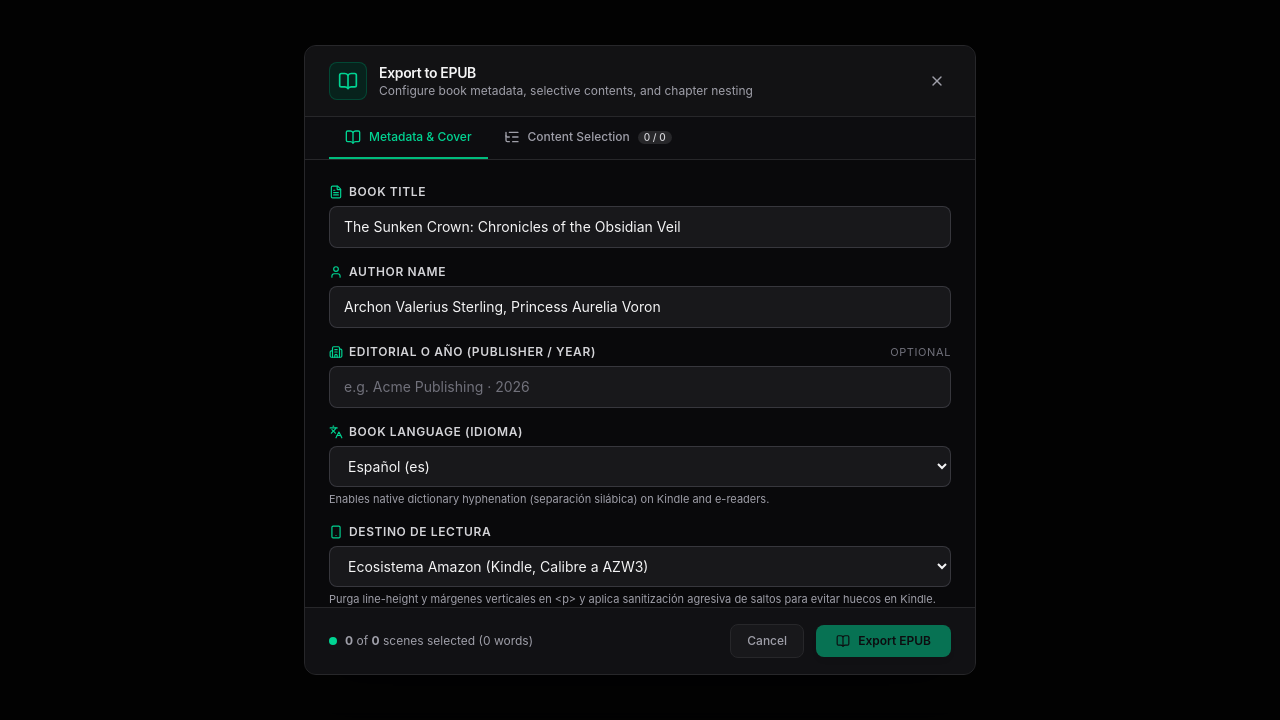
Test case: ExportSettingsModal Component › renders gracefully when project has no chapters
This screenshot has width=1280, height=720.
Click the text "Content Selection" at (579, 137), box [528,129,630,145]
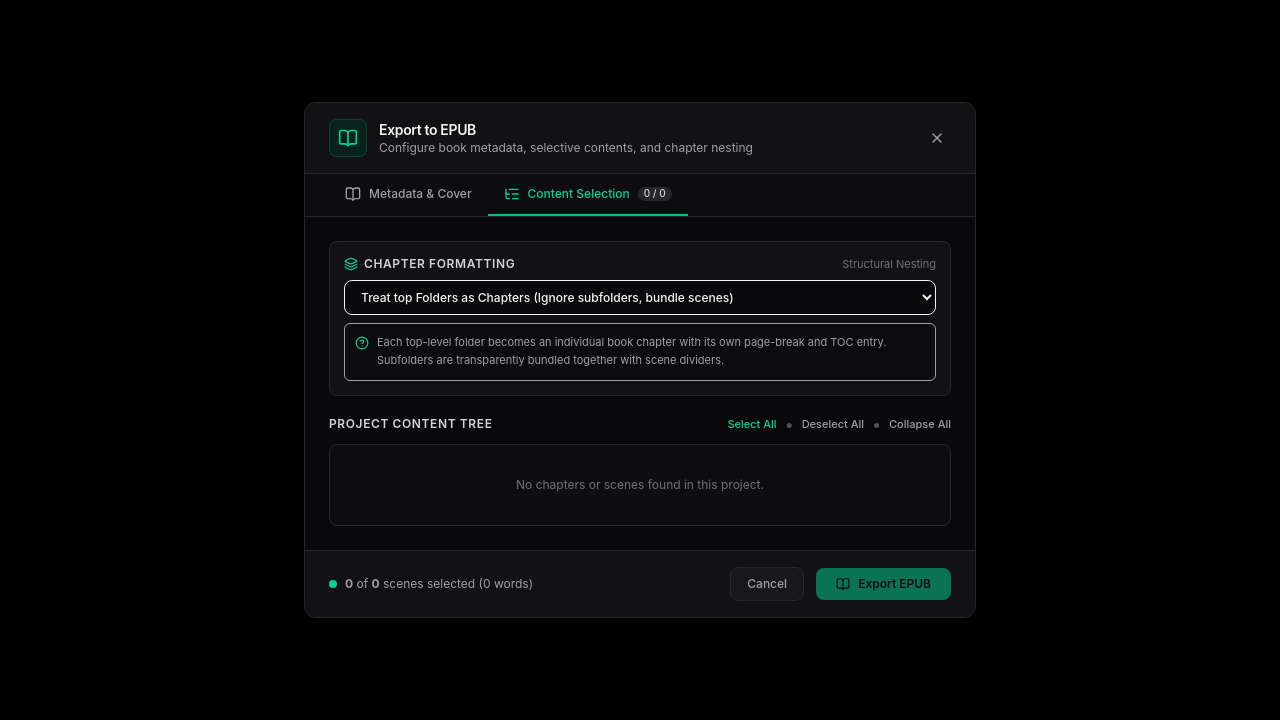
Result: the text "No chapters or scenes found in this project." is shown at [516,477,764,492]
